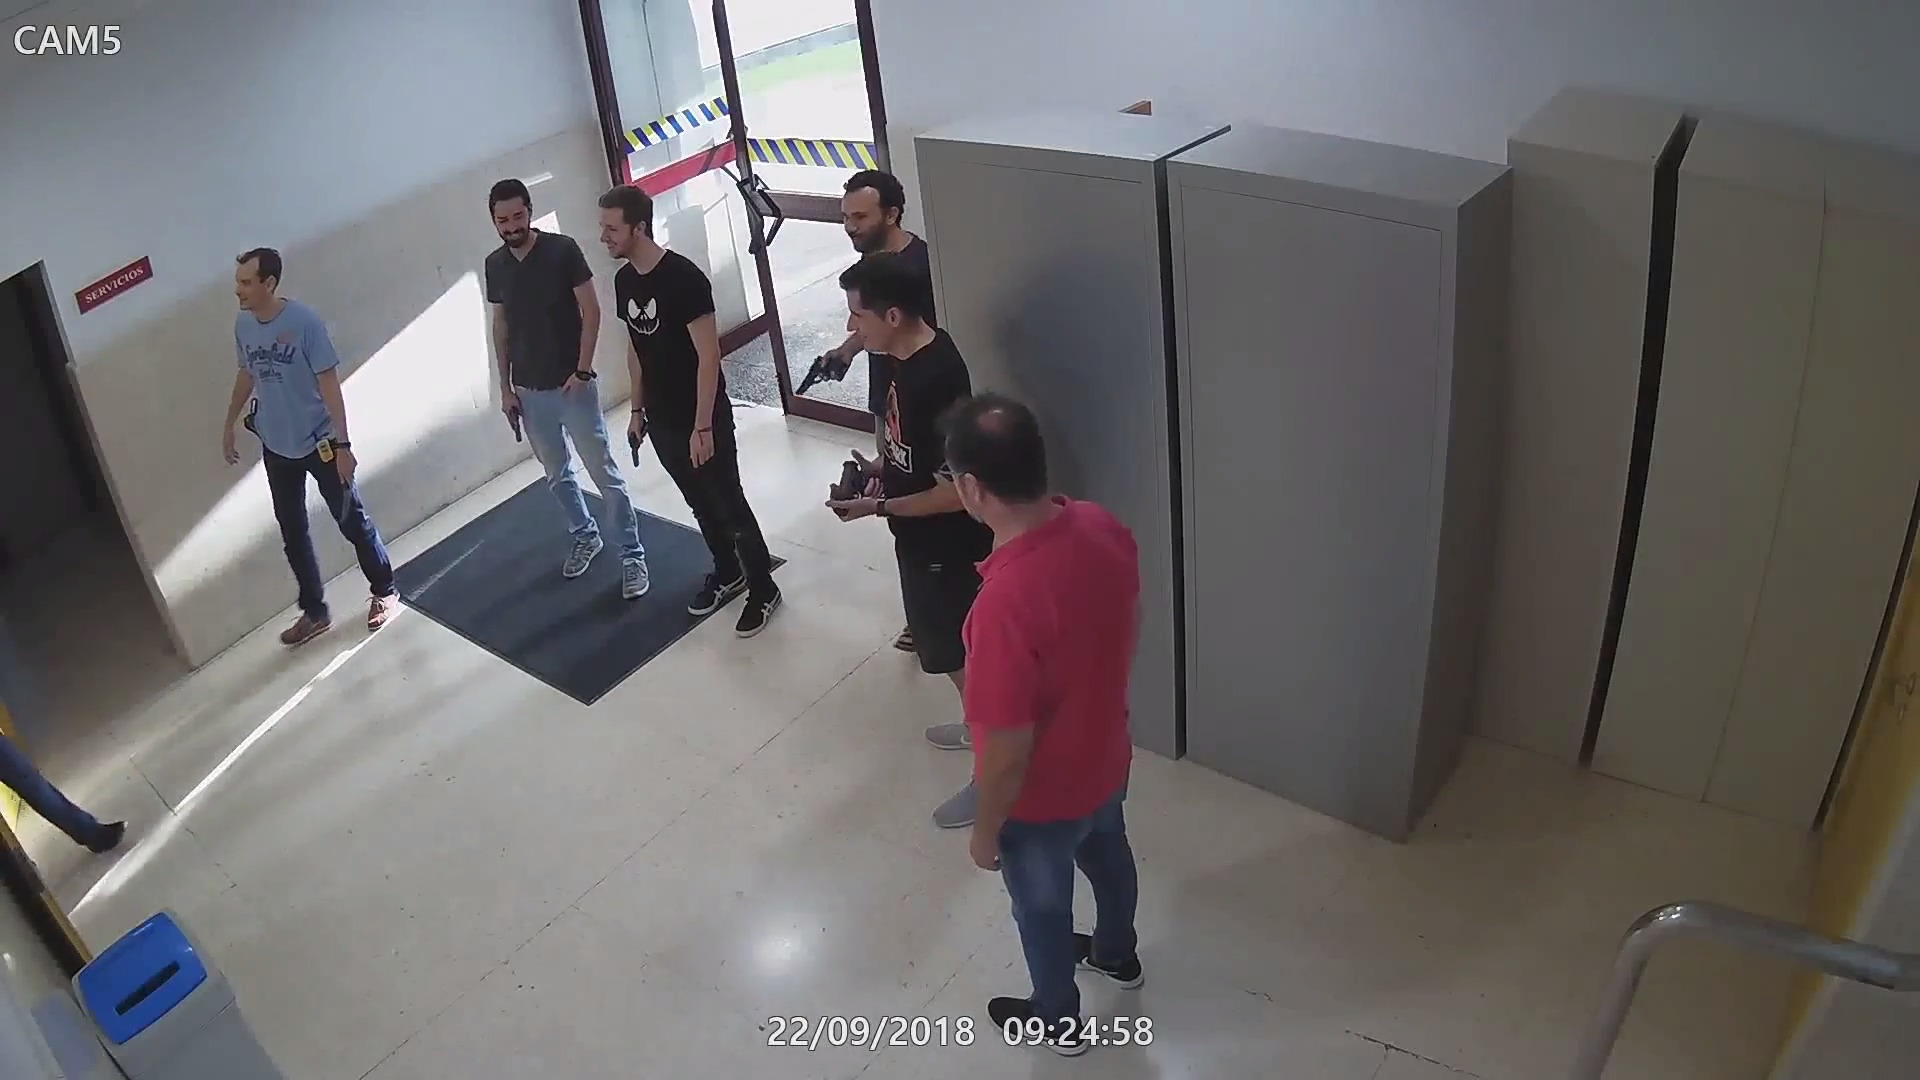knife: (334, 444, 359, 527)
pistol: (829, 458, 887, 522), (793, 351, 851, 400), (495, 388, 526, 444), (625, 411, 654, 467), (236, 397, 262, 440)
